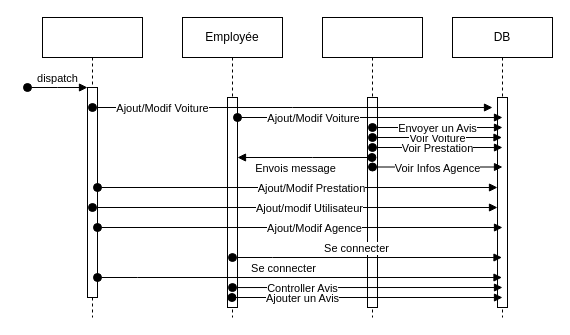
The diagram is 570 pixels wide and 335 high, and some of its shapes have lost their labels. Here are the shapes that lost their labels. From the top down, the box of each, then its label:
(42, 16, 142, 318): Admin
(322, 16, 422, 318): Visiteur
